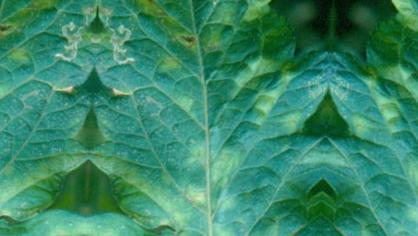Tomato mold leaf: (79, 0, 339, 236)
